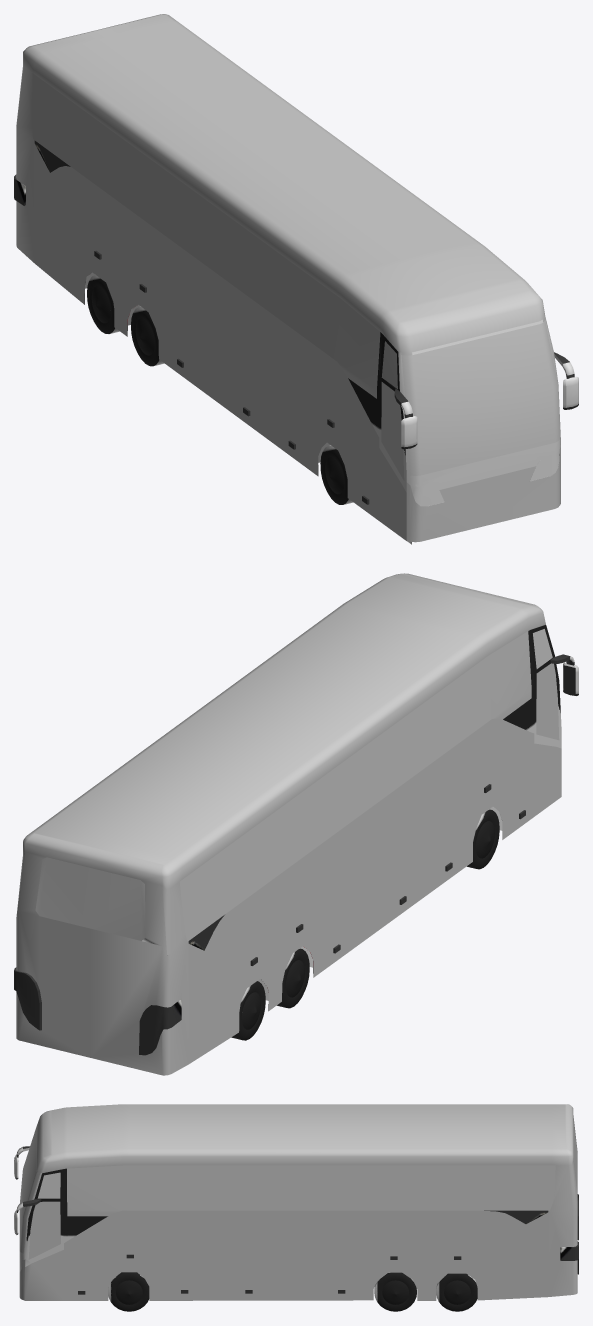
Rendered from BusNew.fbx.
3 renders of one model, top to bottom at view 1: azimuth 30°, elevation 25°; view 2: azimuth 150°, elevation 25°; view 3: azimuth 270°, elevation 25°, orthographic. The views are drawn at different scales.
Parts seen in each view (by area): view 1: bus body, inside and glass, door, door2, wheel2, wheel, wheel3, headlight glass; view 2: bus body, inside and glass, door, door2, wheel2, wheel3, wheel; view 3: bus body, inside and glass, wheel2, wheel, wheel3.
Boxes of the visible parts, left/top/right/bottom form: bus body: left=16, top=14, right=578, bottom=542; inside and glass: left=14, top=73, right=574, bottom=544; door: left=379, top=378, right=406, bottom=540; door2: left=196, top=264, right=224, bottom=406; wheel2: left=131, top=306, right=164, bottom=366; wheel: left=320, top=445, right=353, bottom=504; wheel3: left=87, top=274, right=119, bottom=333; headlight glass: left=410, top=449, right=559, bottom=506; bus body: left=16, top=573, right=578, bottom=1075; inside and glass: left=14, top=625, right=574, bottom=1055; door: left=534, top=661, right=561, bottom=816; door2: left=351, top=807, right=378, bottom=950; wheel2: left=277, top=948, right=309, bottom=1008; wheel3: left=231, top=981, right=265, bottom=1040; wheel: left=467, top=809, right=499, bottom=869; bus body: left=14, top=1104, right=577, bottom=1300; inside and glass: left=16, top=1123, right=578, bottom=1294; wheel2: left=374, top=1272, right=416, bottom=1311; wheel: left=108, top=1272, right=149, bottom=1311; wheel3: left=436, top=1273, right=477, bottom=1311.
Bounding box in the file's own units: 9.61 × 11.76 × 37.68.
